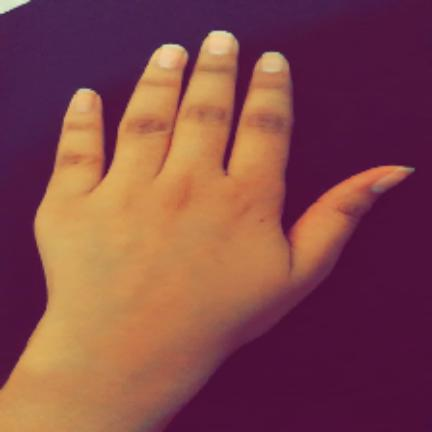Nail: (371, 167, 415, 195), (158, 44, 185, 69), (208, 31, 235, 55), (261, 52, 284, 73), (76, 88, 96, 112)
